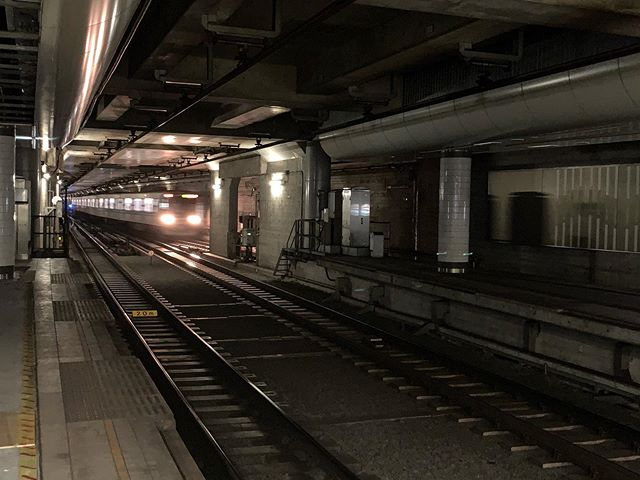train track: (69, 229, 640, 480)
